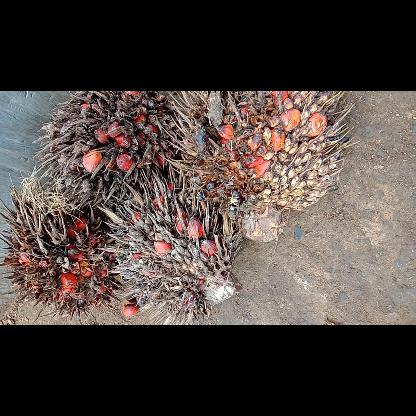Terlalu masak: (162, 90, 360, 244), (94, 162, 245, 324), (0, 160, 130, 324), (30, 90, 186, 208)
